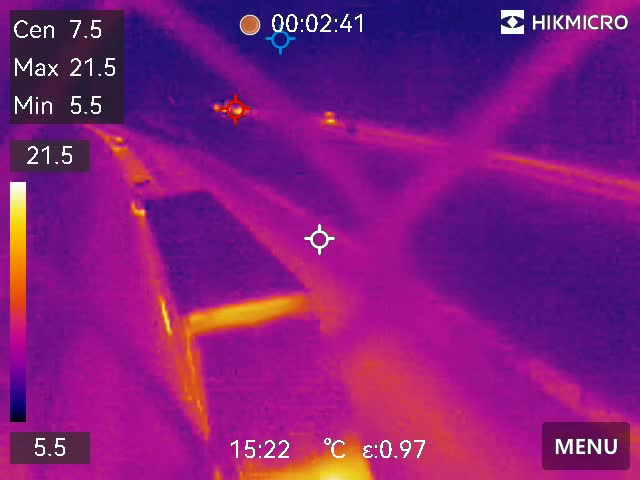heavyTruck: (138, 187, 371, 480)
